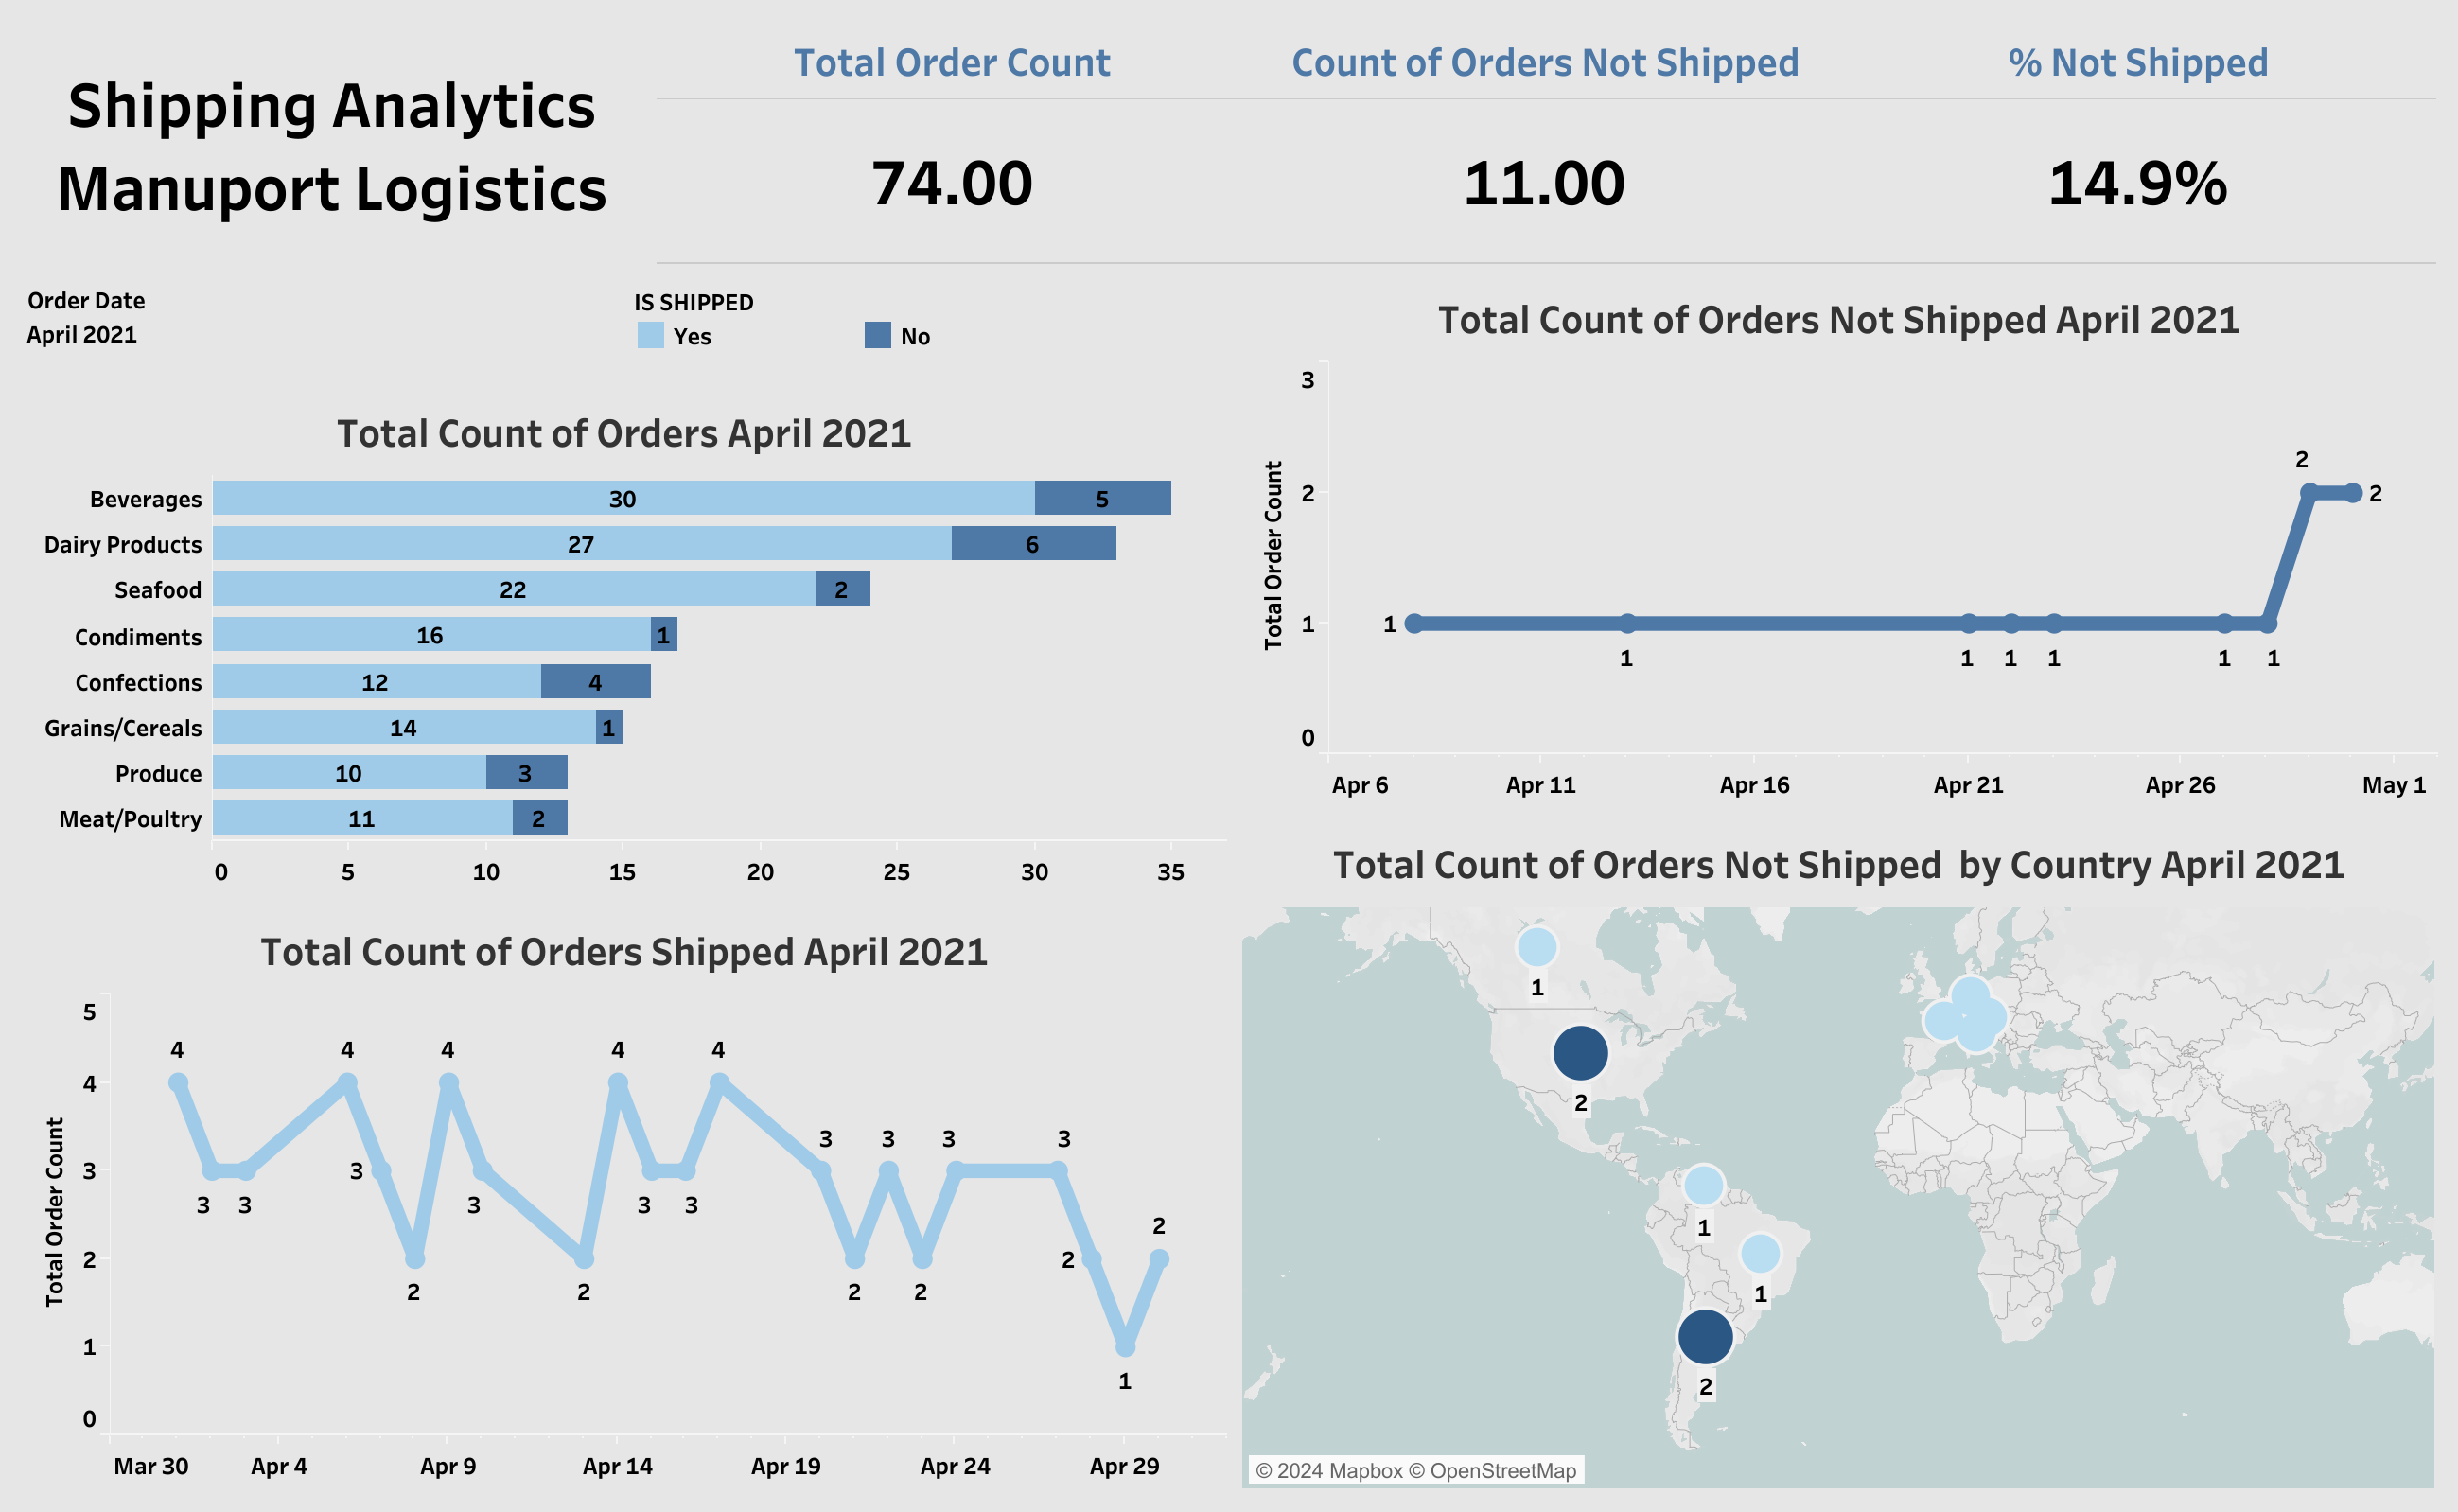

What the dashboard file says about the page in this screenshot:
{"tool":"tableau","page":{"name":"Dashboard 1","canvas":[1300,800],"ordinal":0},"visuals":[{"type":"text","box":[8,8,335,136]},{"type":"worksheet","title":"Headline Card","mark":"Automatic","box":[343,8,949,136]},{"type":"filter","title":"Coount of Orders","param":"[federated.10zprmb06t7c9o1biradv1jik0ri].[my:Calculation_217228370463789056:ok]","box":[8,144,322,60]},{"type":"legend","title":"Coount of Orders","param":"[federated.10zprmb06t7c9o1biradv1jik0ri].[none:Calculation_217228370496466947:nk","box":[330,144,322,60]},{"type":"worksheet","title":"Coount of Orders for Month Not Shipped","mark":"Automatic","rows":["Calculation_217228370464788482"],"cols":["Calculation_217228370463789056"],"box":[652.4,144,639.6,288.5]},{"type":"worksheet","title":"Coount of Orders","mark":"Automatic","rows":["categoryName"],"cols":["Calculation_217228370464788482"],"box":[8,203.7,644.4,274.3]},{"type":"worksheet","title":"Coount of Orders  Not Shipped by Country ","mark":"Automatic","box":[652.4,432.5,639.6,359.5]},{"type":"worksheet","title":"Coount of Orders for Month","mark":"Automatic","rows":["Calculation_217228370464788482"],"cols":["Calculation_217228370463789056"],"box":[8,478,644.4,314]}]}

Visuals, with their boxes in screenshot pixels (x1, y1, x2, y2), scaled from the page's 1300x800 canvas onto the 2458x1512 screenshot:
text: bbox=(15, 15, 648, 273)
"Headline Card" worksheet: bbox=(648, 15, 2443, 273)
"Coount of Orders" filter: bbox=(15, 273, 623, 385)
"Coount of Orders" legend: bbox=(623, 273, 1233, 385)
"Coount of Orders for Month Not Shipped" worksheet: bbox=(1234, 273, 2443, 818)
"Coount of Orders" worksheet: bbox=(15, 385, 1234, 904)
"Coount of Orders  Not Shipped by Country " worksheet: bbox=(1234, 818, 2443, 1497)
"Coount of Orders for Month" worksheet: bbox=(15, 904, 1234, 1497)
